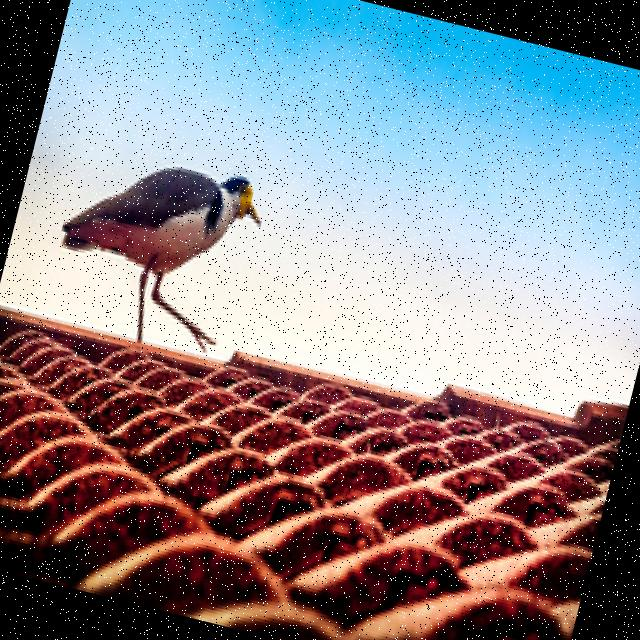bird: (38, 134, 272, 364)
